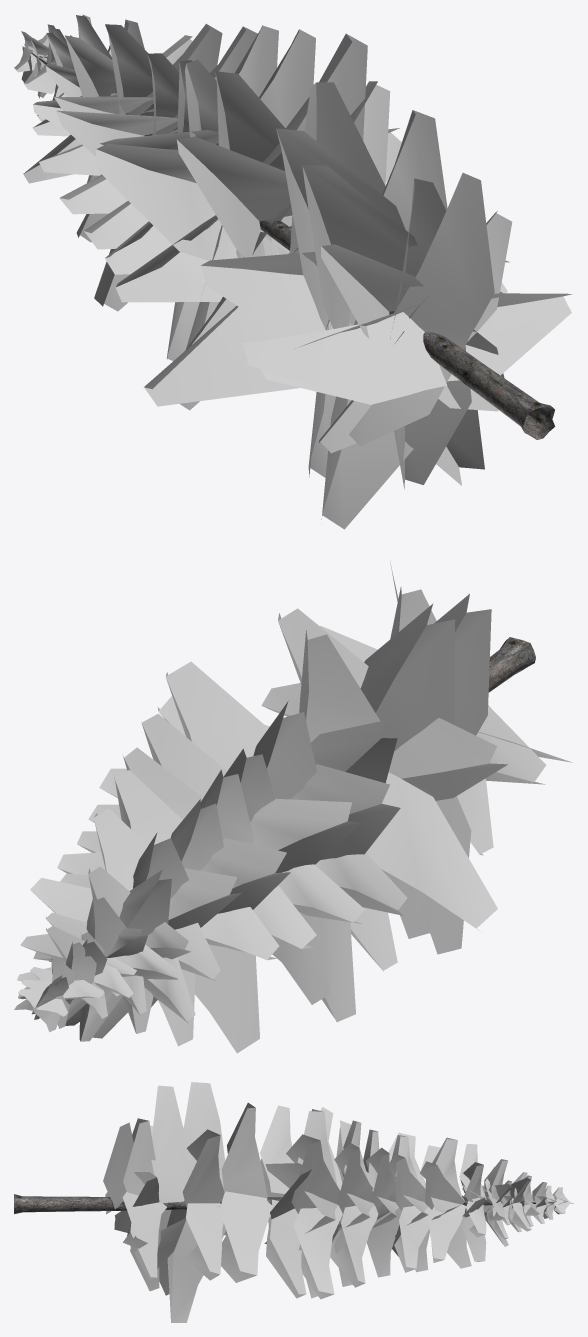
Rendered from Spruce-Firtree1-autumn.FBX.
3 renders of one model, top to bottom at view 1: azimuth 30°, elevation 25°; view 2: azimuth 150°, elevation 25°; view 3: azimuth 270°, elevation 25°, orthographic. The views are drawn at different scales.
Parts seen in each view (by area): view 1: trunk_01; view 2: trunk_01; view 3: trunk_01.
Part boxes in pixels (x1,y1,x2,y2): trunk_01: (14,14,572,529); trunk_01: (14,562,572,1053); trunk_01: (14,1082,573,1322).
Bounding box in the file's own units: 17.5 × 17.84 × 43.27.
